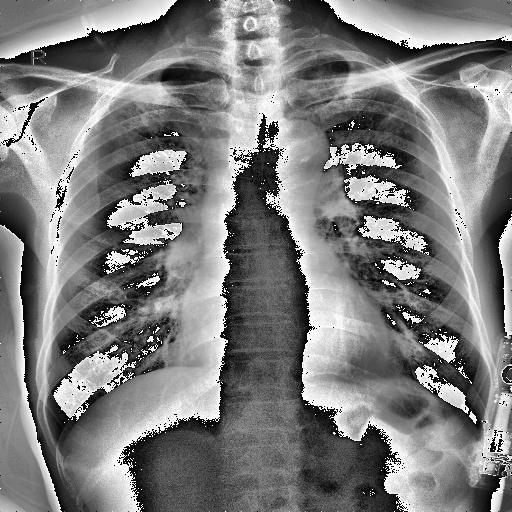0- Aortic enlargement: (253, 117, 331, 175), (262, 118, 334, 180), (250, 116, 330, 169)
13- Pulmonary fibrosis: (94, 70, 226, 156), (304, 76, 418, 146), (95, 82, 220, 139), (318, 80, 411, 144), (104, 82, 186, 150)
6- Infiltration: (289, 56, 412, 150), (94, 70, 226, 156)
